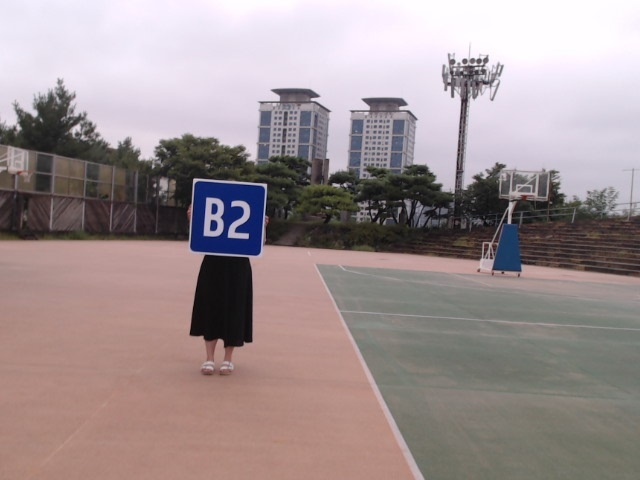delivery_b2: (189, 180, 266, 257)
